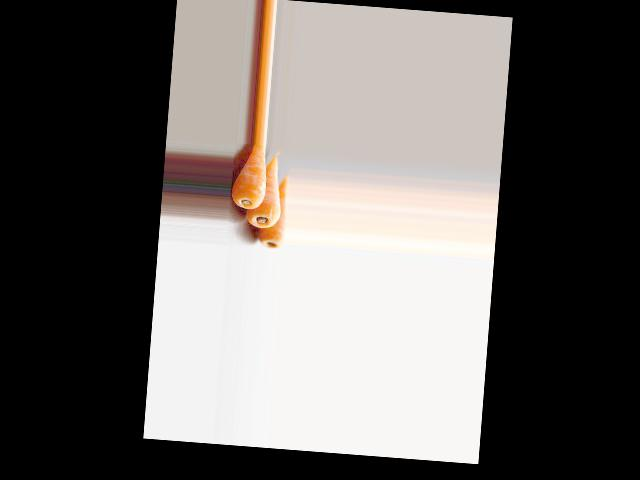carrot: (255, 172, 289, 240)
